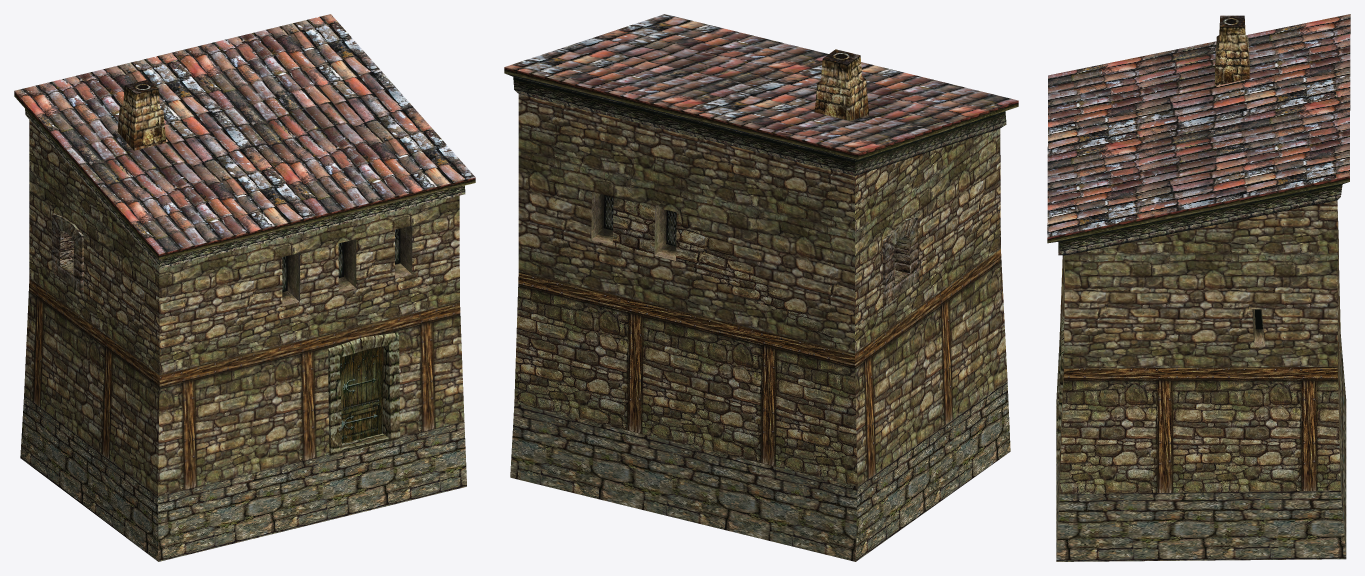
The model's file is tn5_house2.glb.
The picture shows the model from 3 angles, left to right: view 1: azimuth 30°, elevation 25°; view 2: azimuth 150°, elevation 25°; view 3: azimuth 270°, elevation 25°; orthographic projection. The views are drawn at different scales.
Visible parts, largest first — view 1: tn5_house2-col; view 2: tn5_house2-col; view 3: tn5_house2-col.
Part boxes in pixels (x1,y1,x2,y2): tn5_house2-col: (14, 14, 475, 561); tn5_house2-col: (504, 14, 1018, 561); tn5_house2-col: (1047, 14, 1350, 561).
Size of the model in its own units: 8.6 by 10.3 by 6.78.
14 materials, 14 textured.
